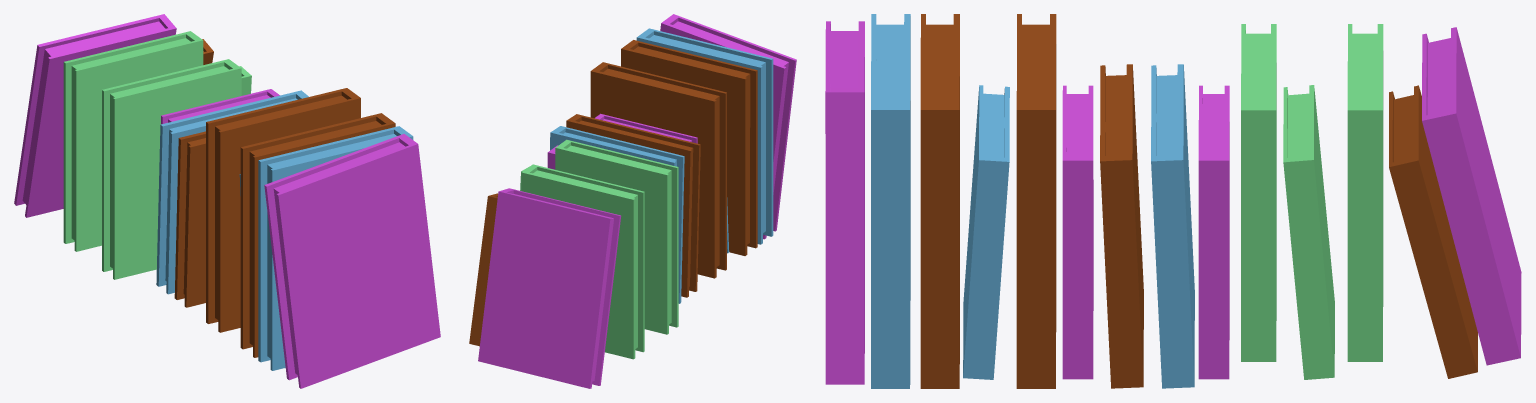
File: books.glb
3 views of the same model, side by side, from view 1: azimuth 30°, elevation 25°; view 2: azimuth 150°, elevation 25°; view 3: azimuth 270°, elevation 25° (orthographic). The views are drawn at different scales.
Parts seen in each view (by area): view 1: books; view 2: books; view 3: books.
Boxes of the visible parts, left/top/right/bottom form: books: left=14, top=14, right=440, bottom=388; books: left=469, top=14, right=796, bottom=388; books: left=825, top=14, right=1521, bottom=388.
Bounding box in the file's own units: 0.2401 × 0.2803 × 0.5852.
